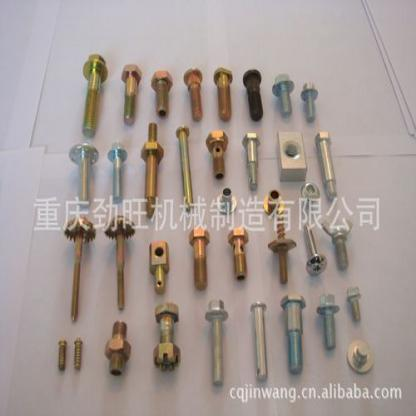FOD: (78, 51, 108, 138), (203, 296, 230, 386), (279, 292, 307, 375), (314, 129, 342, 204), (69, 141, 98, 202), (249, 298, 270, 382), (174, 123, 194, 208), (188, 225, 212, 291), (325, 215, 354, 269), (226, 223, 252, 282), (210, 64, 236, 122), (316, 290, 340, 352), (302, 222, 328, 276), (242, 67, 266, 124), (120, 62, 142, 124), (182, 63, 204, 123), (241, 130, 262, 191), (107, 140, 128, 200), (271, 69, 296, 117), (204, 130, 228, 178), (150, 69, 174, 114), (298, 77, 320, 124), (344, 282, 364, 324)
